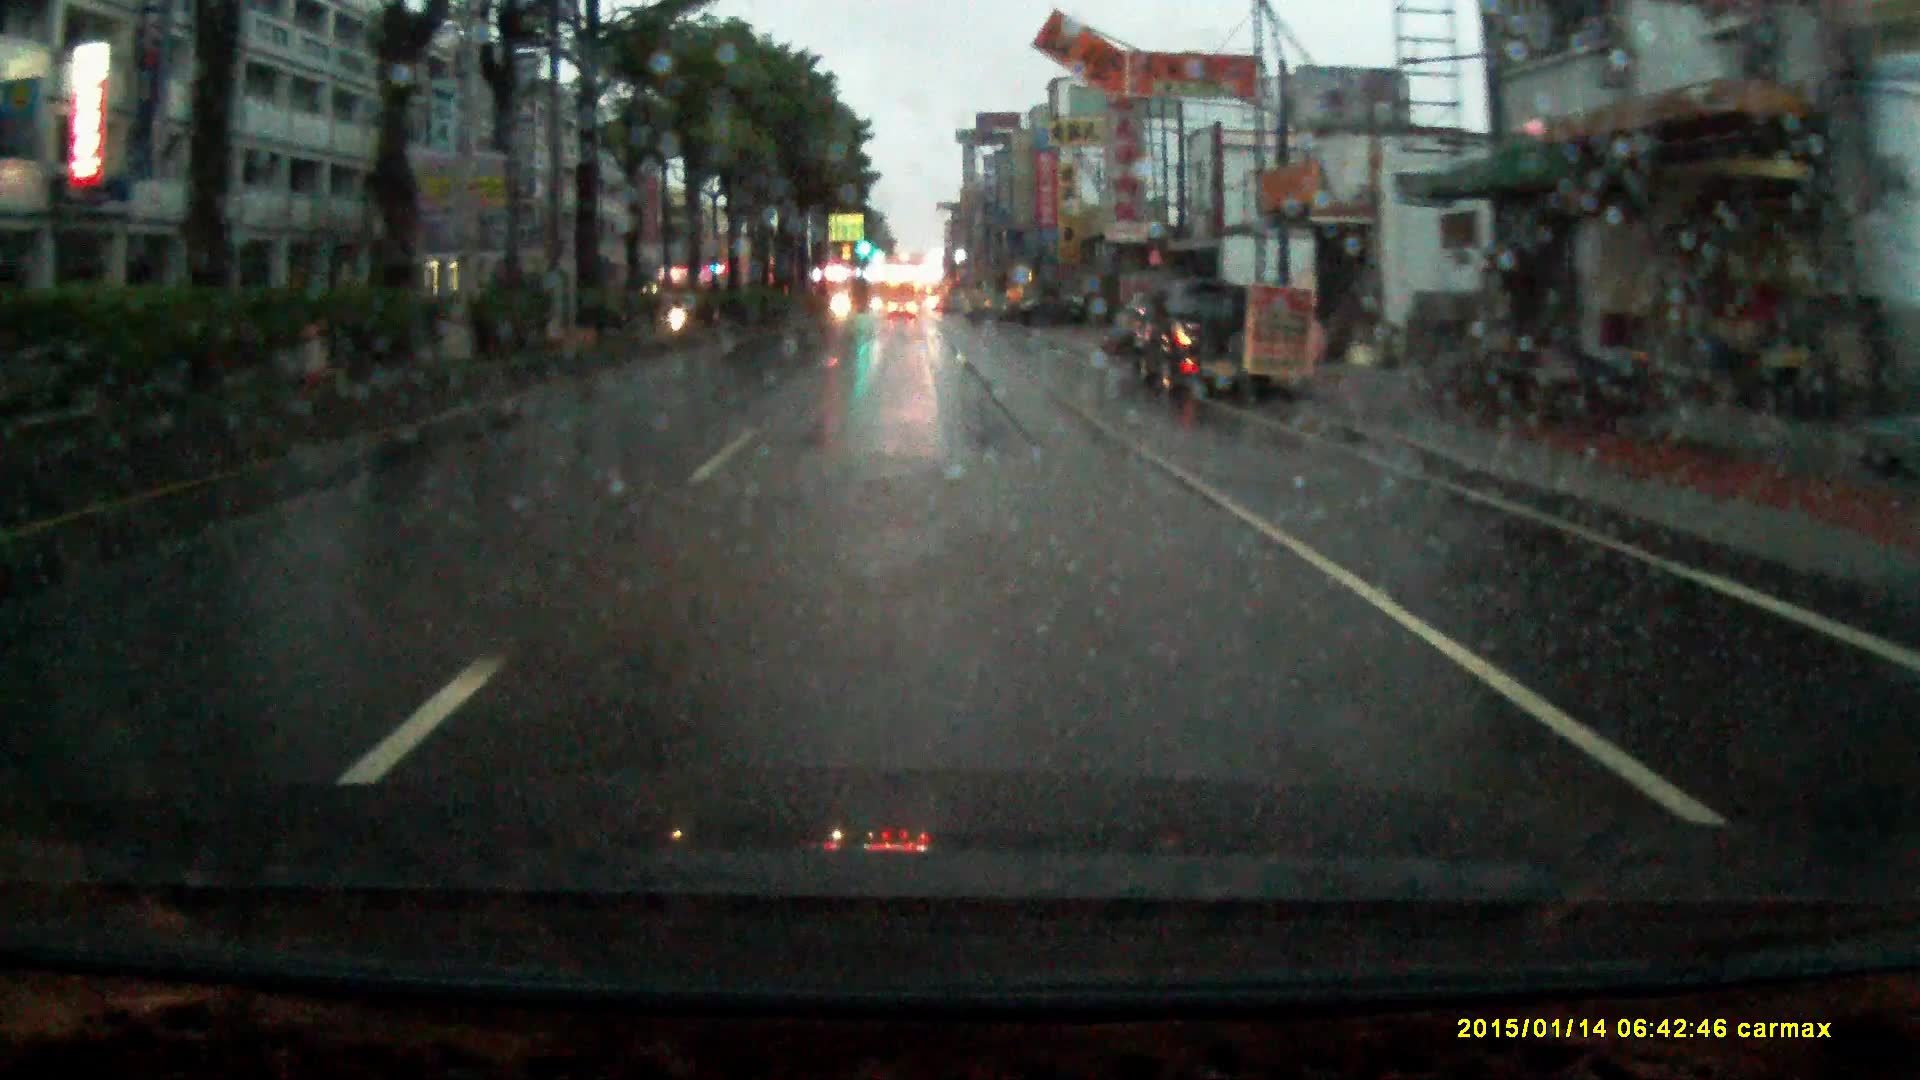vehicle: (1124, 272, 1288, 396), (887, 290, 919, 316)
